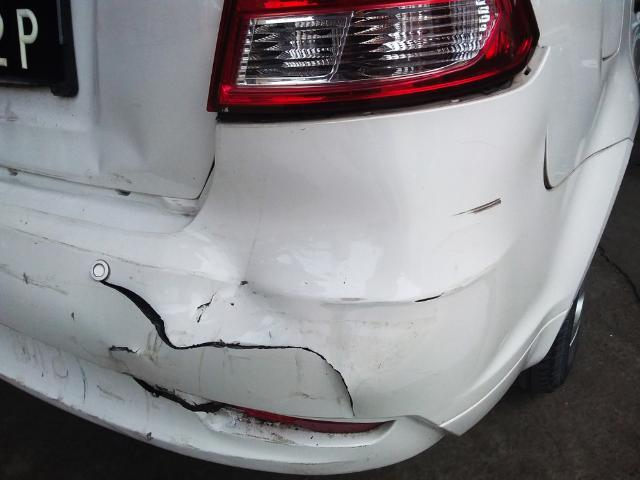crack: (100, 280, 355, 420), (127, 374, 233, 415), (107, 345, 140, 355)
dent: (167, 162, 407, 350), (78, 92, 149, 174)
scratch: (0, 202, 161, 296), (454, 197, 504, 217), (413, 293, 444, 304)
